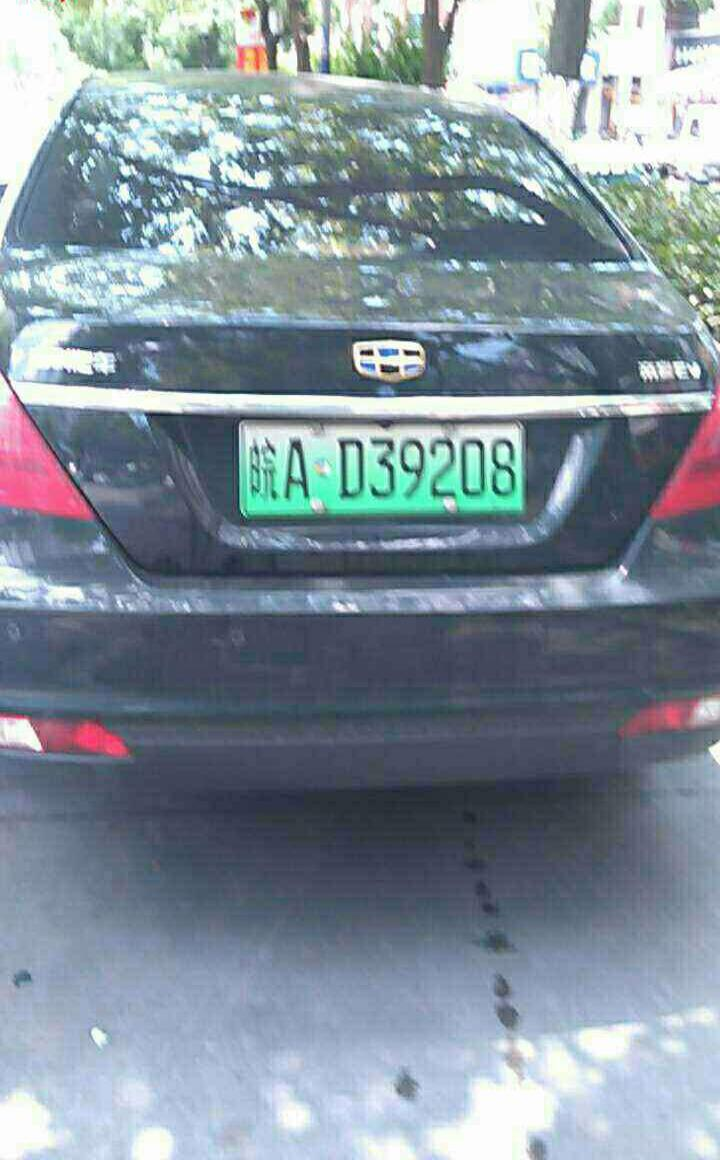car: (229, 420, 535, 518)
